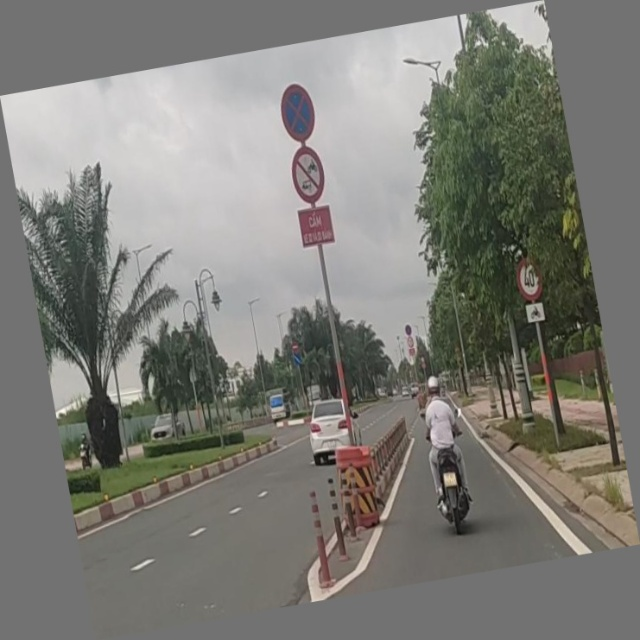P.111: (285, 141, 330, 207)
P.127*40: (514, 254, 547, 304)
P.130: (272, 74, 320, 146)
S.505a*Xe may: (522, 296, 547, 324)
